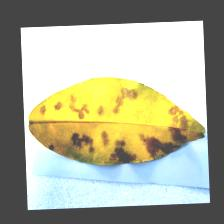black spot: (42, 95, 183, 156)
